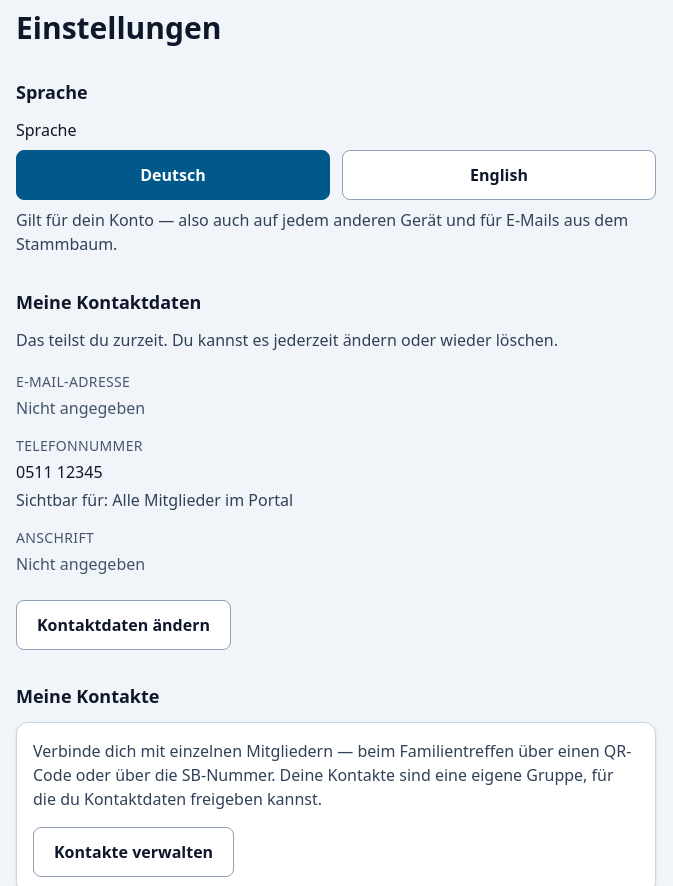
my own contact details › offers the contacts audience only where connections exist
What coordinates should you click on to do the following:
click the button "Kontaktdaten ändern"
I would click on:
 (123, 625)
Its box is [16,600,231,650].
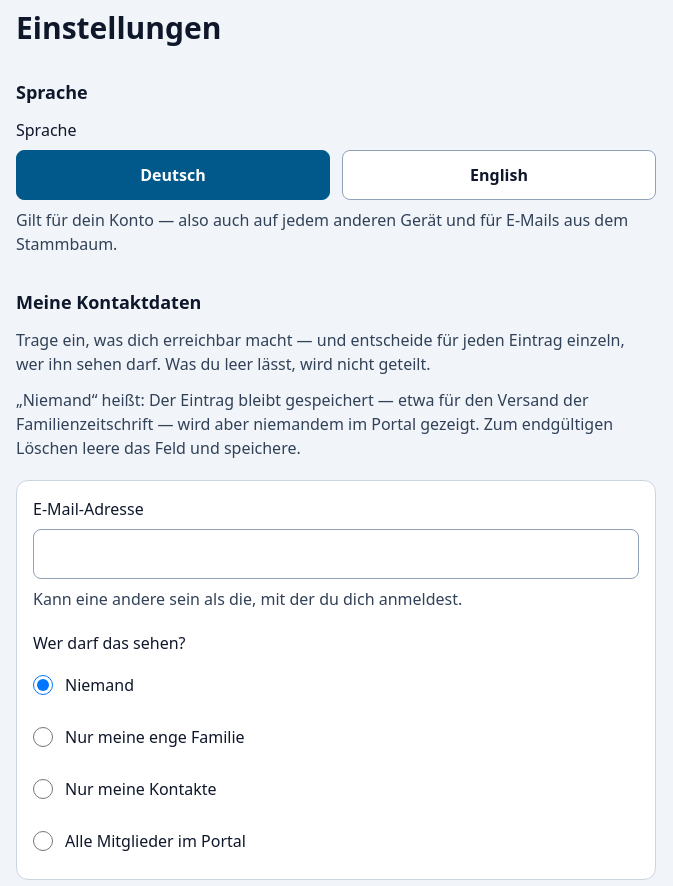
Now the number of radio buttons labelled "Nur meine Kontakte" is 3
